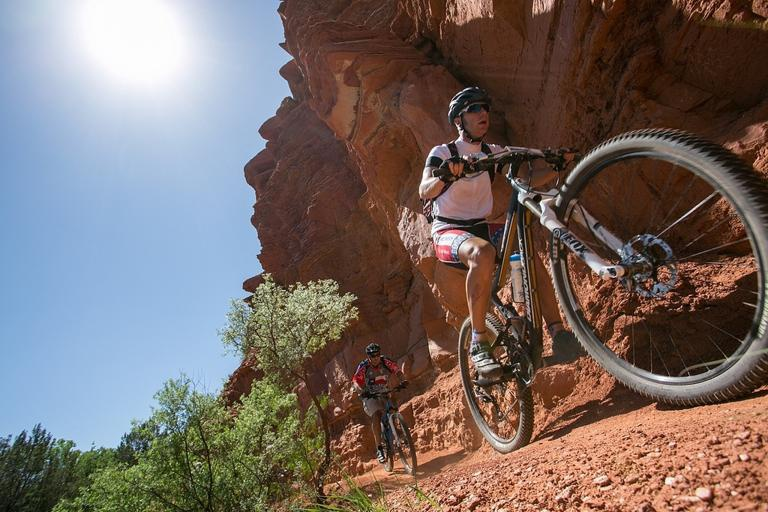non-vehicle: (429, 130, 767, 454), (359, 379, 421, 479)
